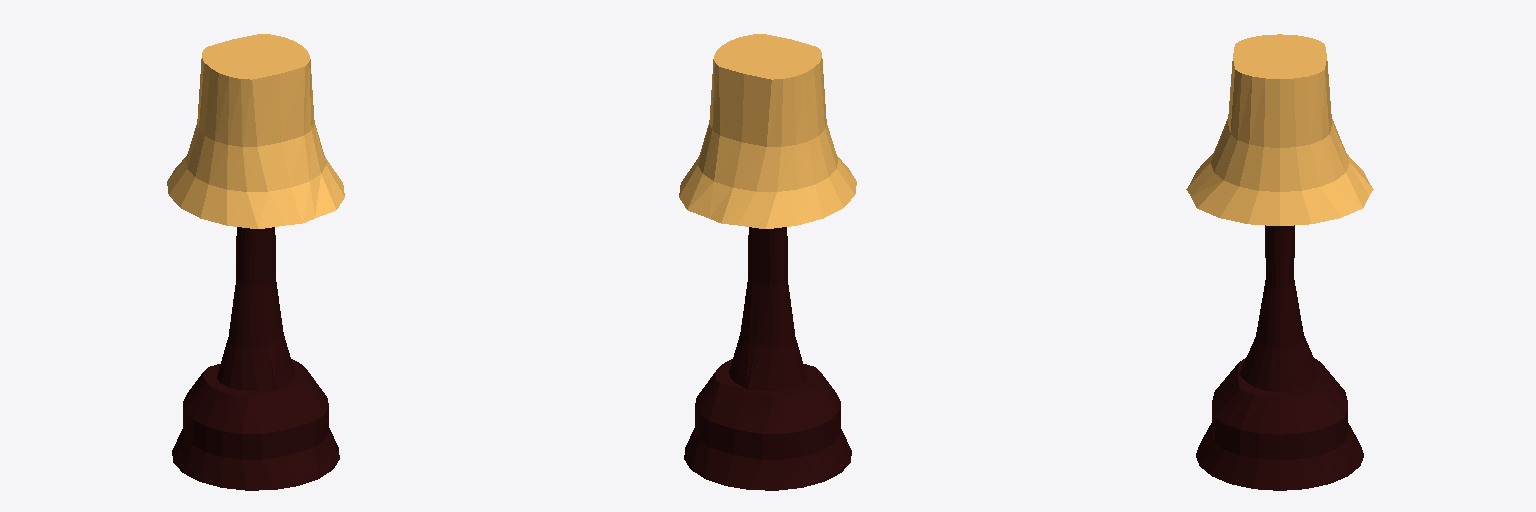
The model's file is LampRemake1OBJ.obj.
3 views of the same model, side by side, from view 1: azimuth 30°, elevation 25°; view 2: azimuth 150°, elevation 25°; view 3: azimuth 270°, elevation 25° (orthographic).
Parts seen in each view (by area): view 1: pCylinder1 pCylinder2 pCylinder3, pCylinder1, pCylinder1 pCylinder2; view 2: pCylinder1 pCylinder2 pCylinder3, pCylinder1, pCylinder1 pCylinder2; view 3: pCylinder1 pCylinder2 pCylinder3, pCylinder1, pCylinder1 pCylinder2.
Boxes of the visible parts, box(x1,y1,x2,y2) form: pCylinder1 pCylinder2 pCylinder3: box(167, 34, 344, 228); pCylinder1: box(172, 359, 339, 490); pCylinder1 pCylinder2: box(217, 227, 294, 390); pCylinder1 pCylinder2 pCylinder3: box(679, 34, 856, 228); pCylinder1: box(684, 359, 851, 490); pCylinder1 pCylinder2: box(729, 227, 806, 390); pCylinder1 pCylinder2 pCylinder3: box(1186, 34, 1373, 225); pCylinder1: box(1196, 358, 1363, 490); pCylinder1 pCylinder2: box(1239, 225, 1320, 391).
Bounding box in the file's own units: 2.39 × 6.01 × 2.56.